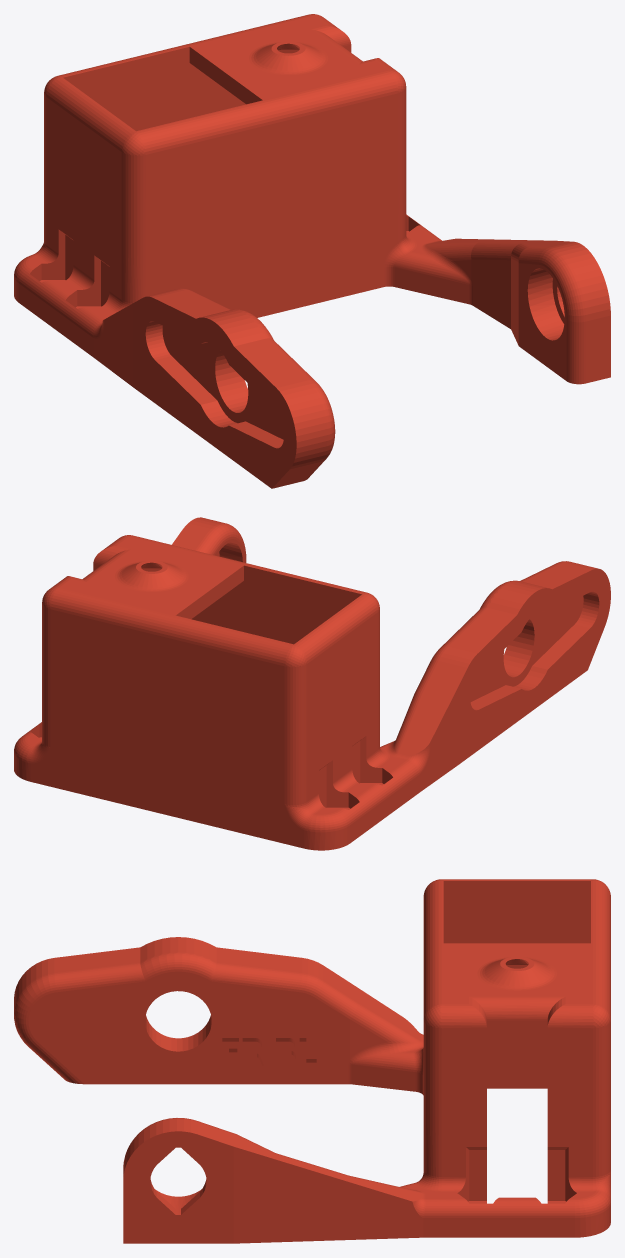
3 views of the same model, one above another, from view 1: azimuth 30°, elevation 25°; view 2: azimuth 150°, elevation 25°; view 3: azimuth 270°, elevation 25° (orthographic). The views are drawn at different scales.
Visible parts, largest first — view 1: Link1R.stl; view 2: Link1R.stl; view 3: Link1R.stl.
Boxes of the visible parts, <box> form: Link1R.stl: <box>14,14,610,488</box>; Link1R.stl: <box>14,517,610,850</box>; Link1R.stl: <box>14,879,610,1243</box>.
Size of the model in its own units: 59.3 by 33.25 by 82.66.
